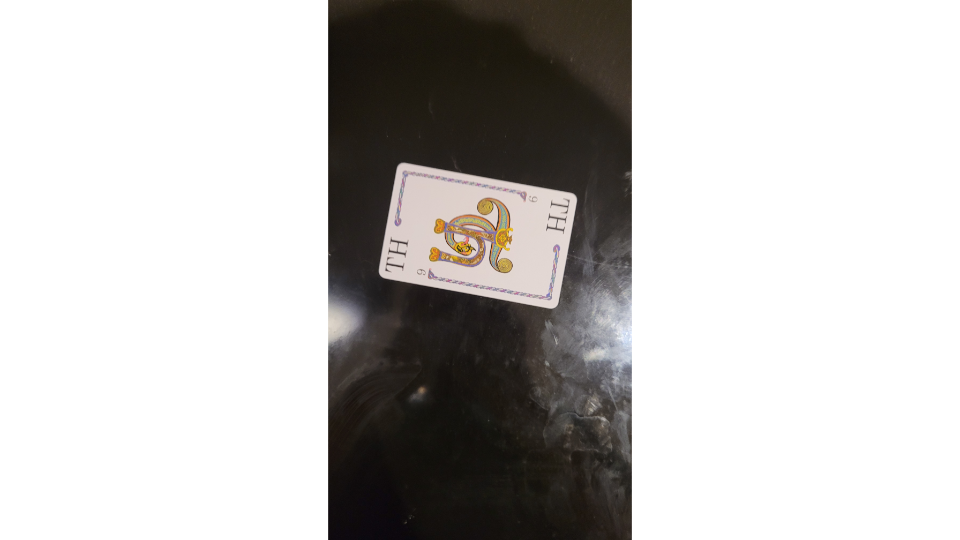TH: (375, 159, 580, 313)
